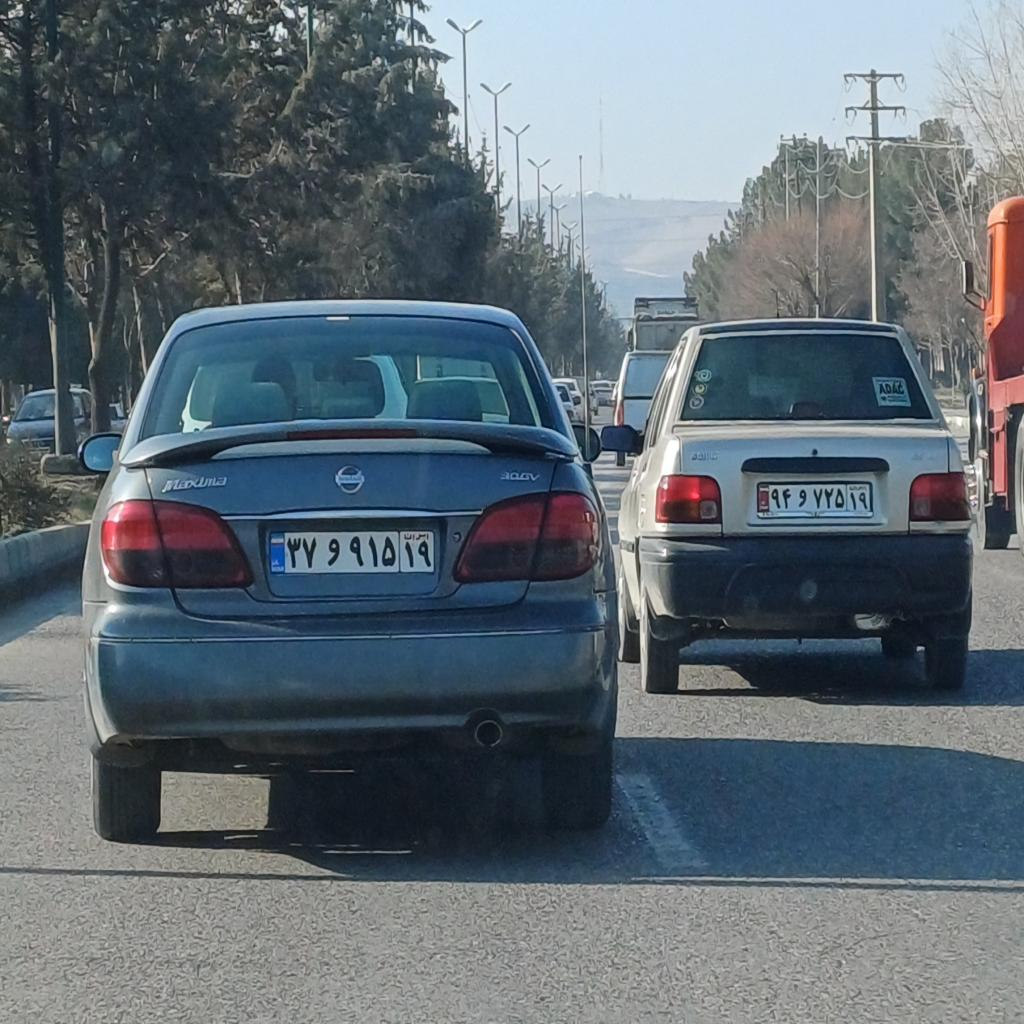Plates: (266, 529, 436, 574), (755, 478, 875, 518)
